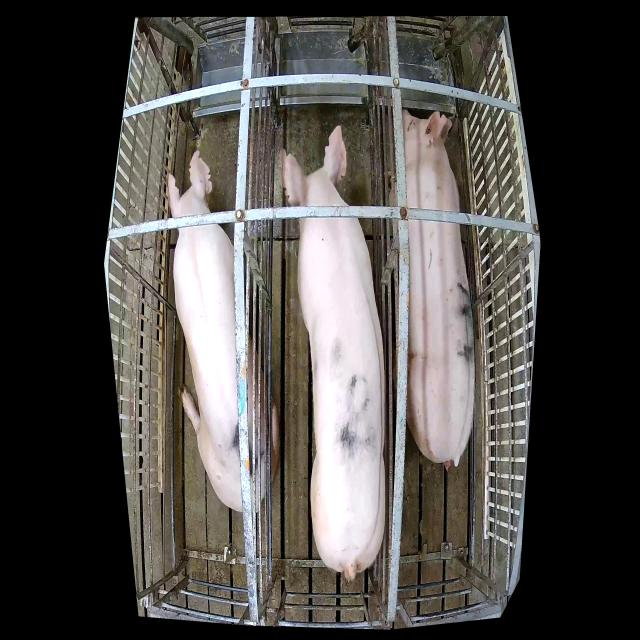pig: (280, 126, 384, 581), (167, 151, 280, 513), (389, 108, 475, 470)
